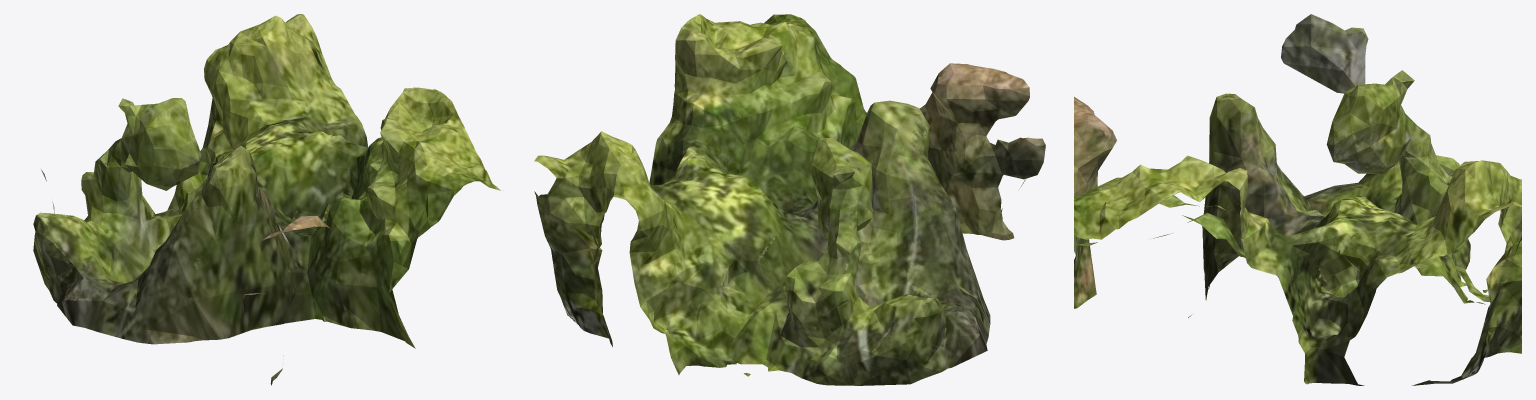
The picture shows the model from 3 angles, left to right: view 1: azimuth 30°, elevation 25°; view 2: azimuth 150°, elevation 25°; view 3: azimuth 270°, elevation 25°; orthographic projection. The views are drawn at different scales.
Size of the model in its own units: 2.95 by 1.5 by 2.95.
Materials: 4 (4 with a texture image).
